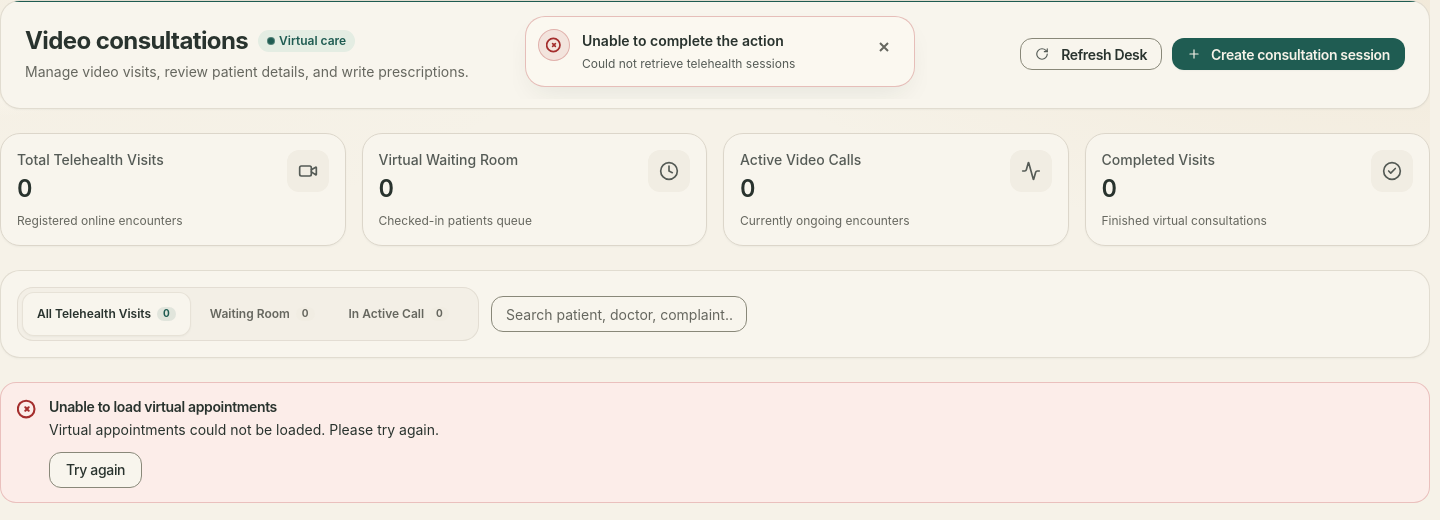
Test case: distinguishes failure from no appointments and retries the selected clinic
Step 1. Click the button "Try again" → (96, 470), box [49,452,142,488]
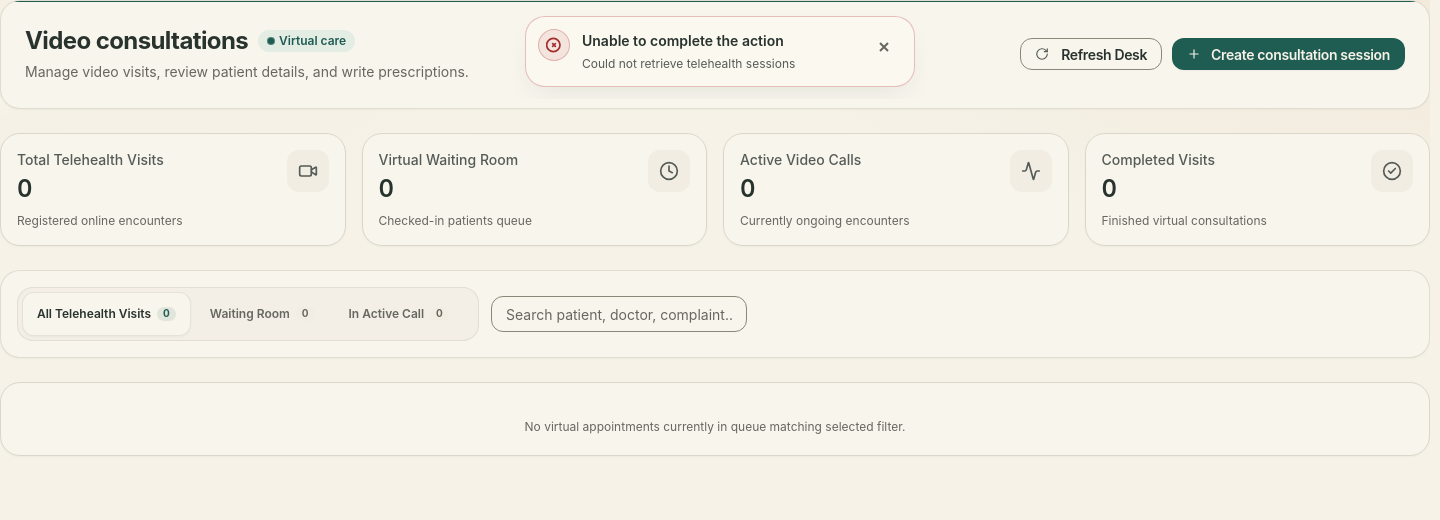
Check: the text "No virtual appointments currently" is shown, box [525,419,905,434]
